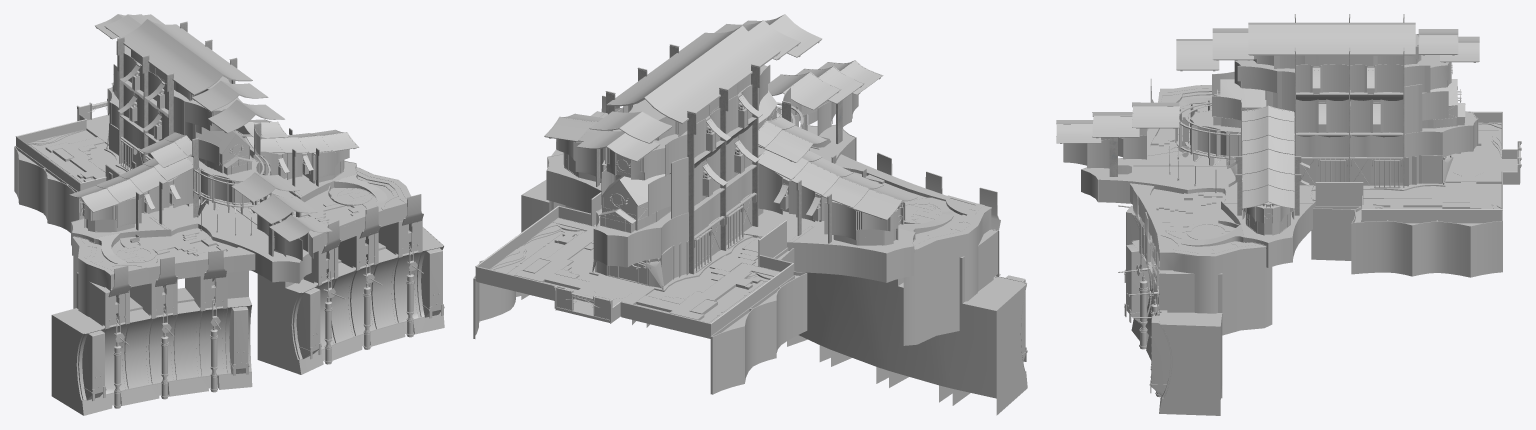
The model's file is SM_Cit_Bui_09AH_CH_12AH_CH_DH.fbx.
3 views of the same model, side by side, from view 1: azimuth 30°, elevation 25°; view 2: azimuth 150°, elevation 25°; view 3: azimuth 270°, elevation 25° (orthographic). The views are drawn at different scales.
Visible parts, largest first — view 1: SM_Cit_Bui_09CH.mo, SM_Cit_Bui_12AH.mo, SM_Cit_Bui_12DH.mo, SM_Cit_Bui_12CH.mo, SM_Cit_Bui_12BH.mo, SM_Cit_Bui_09AH.mo; view 2: SM_Cit_Bui_12AH.mo, SM_Cit_Bui_12DH.mo, SM_Cit_Bui_09CH.mo, SM_Cit_Bui_12CH.mo, SM_Cit_Bui_12BH.mo, SM_Cit_Bui_09AH.mo; view 3: SM_Cit_Bui_12AH.mo, SM_Cit_Bui_12DH.mo, SM_Cit_Bui_12CH.mo, SM_Cit_Bui_09CH.mo, SM_Cit_Bui_12BH.mo, SM_Cit_Bui_09AH.mo.
Part boxes in pixels (bbox=[...]): SM_Cit_Bui_09CH.mo: bbox=[51, 219, 444, 415]; SM_Cit_Bui_12AH.mo: bbox=[14, 14, 411, 283]; SM_Cit_Bui_12DH.mo: bbox=[14, 98, 407, 316]; SM_Cit_Bui_12CH.mo: bbox=[18, 45, 409, 274]; SM_Cit_Bui_12BH.mo: bbox=[79, 23, 407, 270]; SM_Cit_Bui_09AH.mo: bbox=[108, 194, 423, 408]; SM_Cit_Bui_12AH.mo: bbox=[473, 14, 991, 394]; SM_Cit_Bui_12DH.mo: bbox=[473, 140, 991, 381]; SM_Cit_Bui_09CH.mo: bbox=[521, 180, 1027, 415]; SM_Cit_Bui_12CH.mo: bbox=[477, 65, 990, 338]; SM_Cit_Bui_12BH.mo: bbox=[545, 40, 984, 289]; SM_Cit_Bui_09AH.mo: bbox=[601, 95, 1000, 230]; SM_Cit_Bui_12AH.mo: bbox=[1056, 14, 1520, 277]; SM_Cit_Bui_12DH.mo: bbox=[1129, 93, 1521, 335]; SM_Cit_Bui_12CH.mo: bbox=[1082, 55, 1517, 255]; SM_Cit_Bui_09CH.mo: bbox=[1118, 205, 1222, 415]; SM_Cit_Bui_12BH.mo: bbox=[1057, 18, 1478, 252]; SM_Cit_Bui_09AH.mo: bbox=[1133, 78, 1160, 397].
Bounding box in the file's own units: 196 × 136 × 195.
